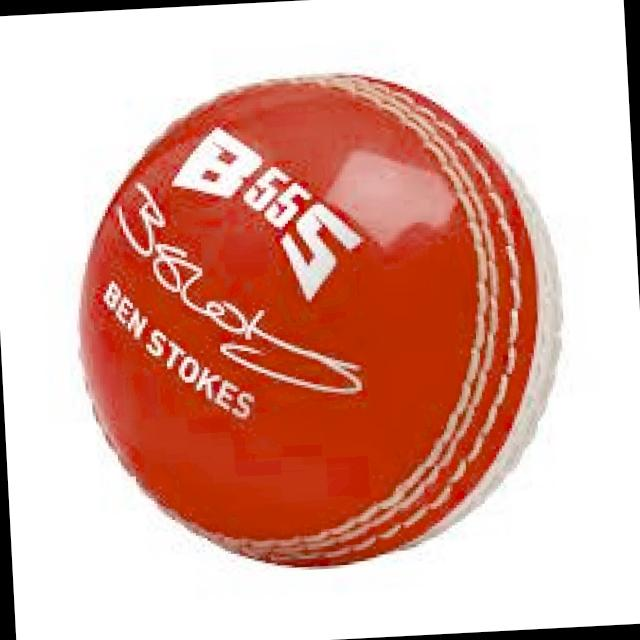ball: (57, 48, 594, 586)
